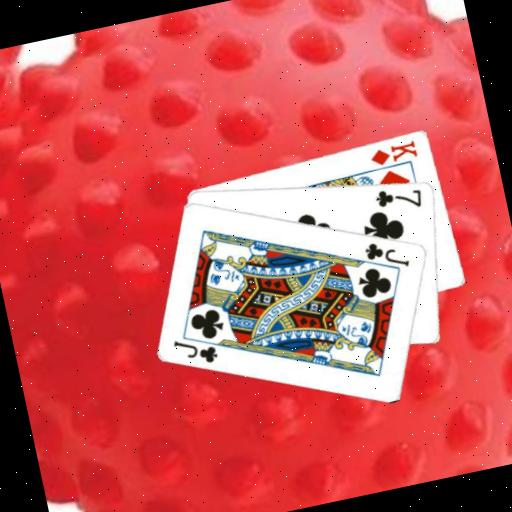7C: (371, 179, 426, 217)
JC: (360, 232, 412, 276), (169, 329, 221, 372)
KD: (365, 136, 420, 169)
